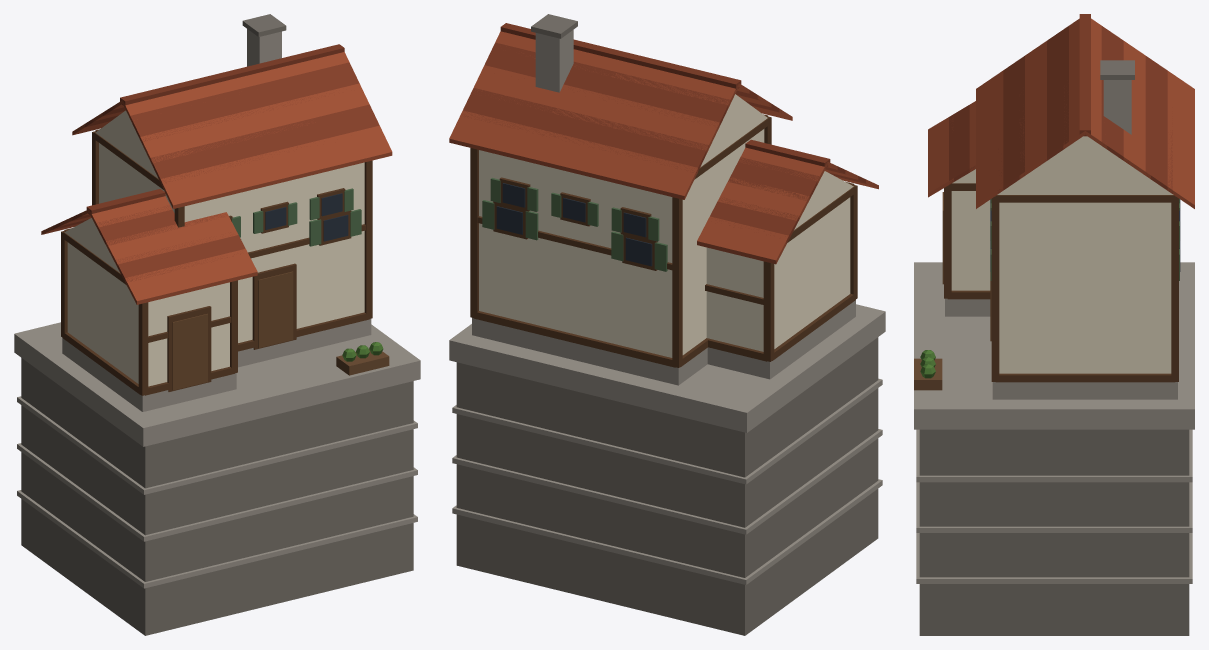
File: house_l3_3.glb
The picture shows the model from 3 angles, left to right: view 1: azimuth 30°, elevation 25°; view 2: azimuth 150°, elevation 25°; view 3: azimuth 270°, elevation 25°; orthographic projection. The views are drawn at different scales.
Visible parts, largest first — view 1: house_l3_3; view 2: house_l3_3; view 3: house_l3_3.
Part boxes in pixels (x1,y1,x2,y2): house_l3_3: (14,14,420,635); house_l3_3: (449,14,885,635); house_l3_3: (914,14,1194,635).
Size of the model in its own units: 6.2 by 10.56 by 5.
